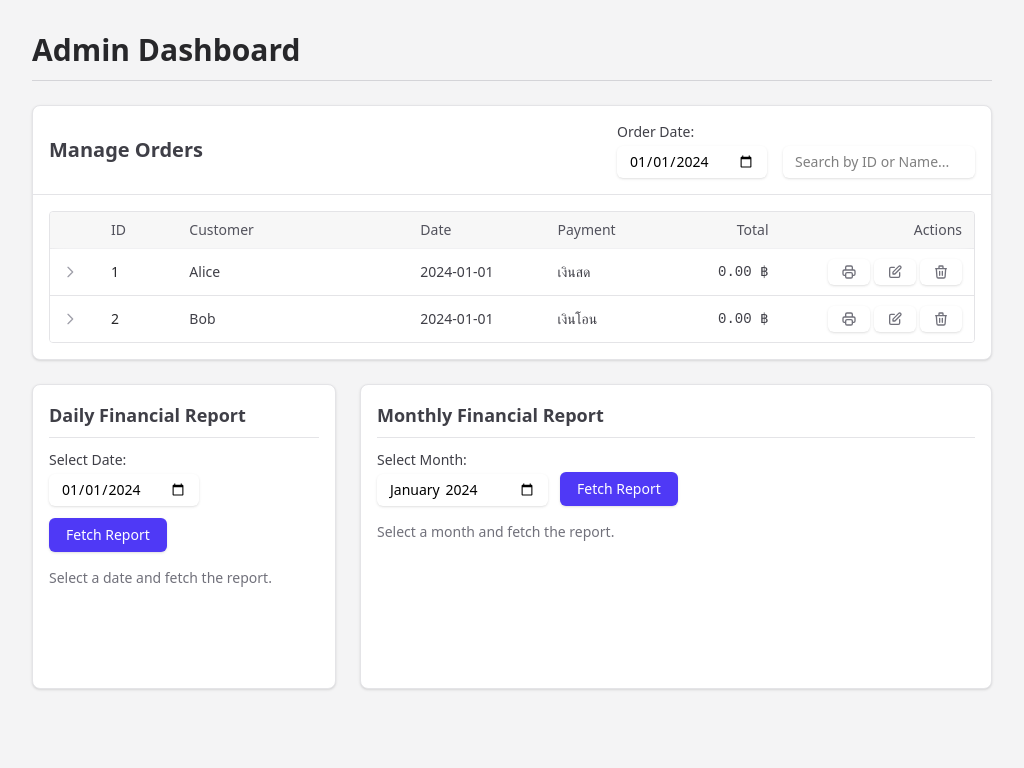
Test: filters orders by search term
The width and height of the screenshot is (1024, 768).
Expected: the text "Alice" is shown, left=177, top=248, right=408, bottom=296
Type "Bob" into the search field with placeholder "Search by ID or Name..." at x=879, y=162, box left=783, top=146, right=975, bottom=178
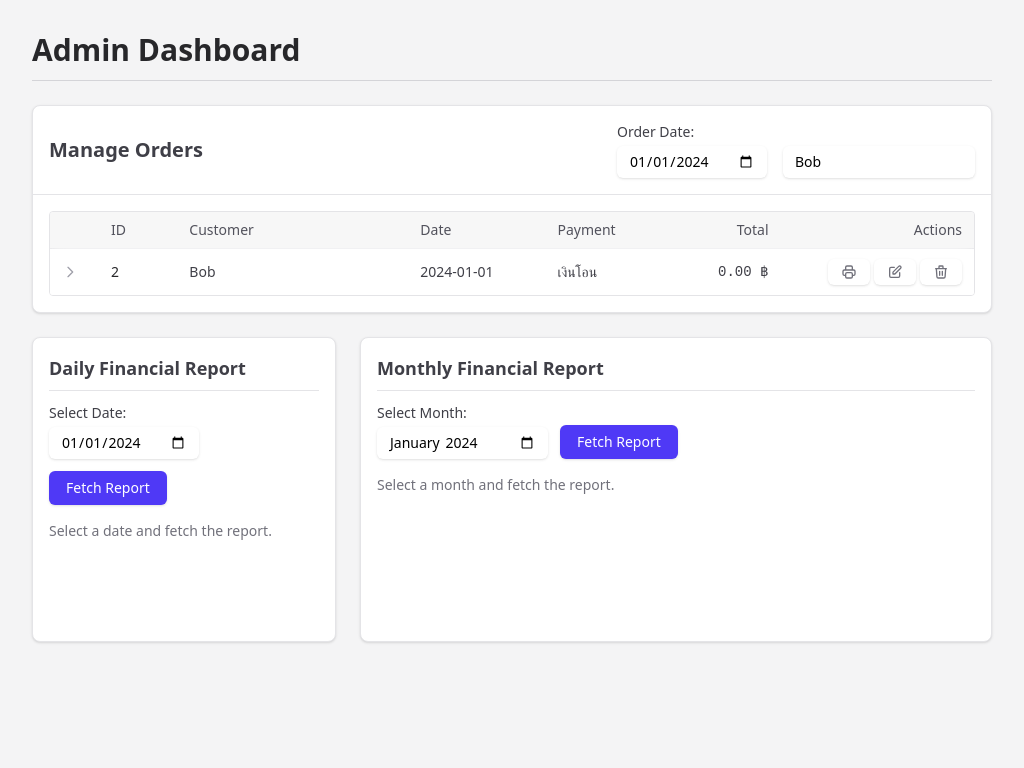
Expected: the text "Bob" is shown, left=177, top=248, right=408, bottom=295
Expected: the text "Alice" is gone
